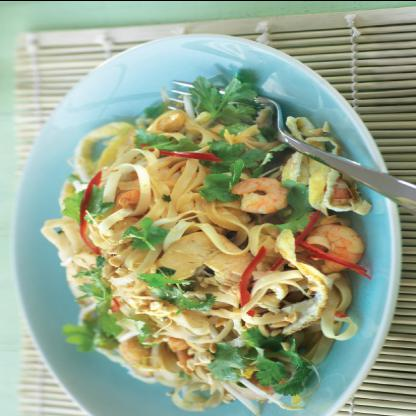Pad Thai: (37, 64, 380, 410)
